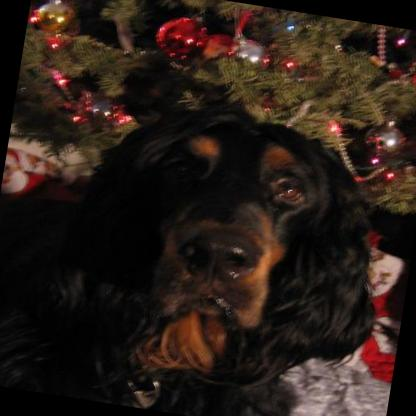Gordon_setter: (0, 80, 400, 416)
